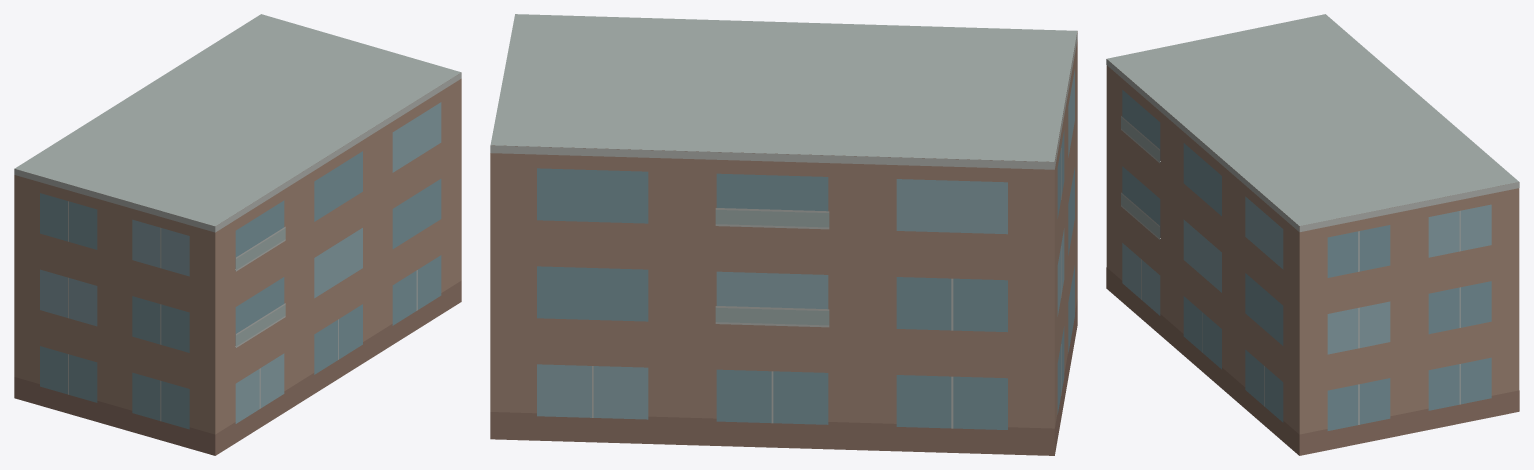
Rendered from survey-upis-32700487.glb.
3 views of the same model, side by side, from view 1: azimuth 30°, elevation 25°; view 2: azimuth 150°, elevation 25°; view 3: azimuth 270°, elevation 25° (orthographic). The views are drawn at different scales.
Parts seen in each view (by area): view 1: survey-upis-32700487.tmp; view 2: survey-upis-32700487.tmp; view 3: survey-upis-32700487.tmp.
Part boxes in pixels (bbox=[...]): survey-upis-32700487.tmp: bbox=[14, 14, 461, 455]; survey-upis-32700487.tmp: bbox=[490, 14, 1077, 455]; survey-upis-32700487.tmp: bbox=[1106, 14, 1519, 455].
Bounding box in the file's own units: 18.13 × 9.15 × 14.91.
